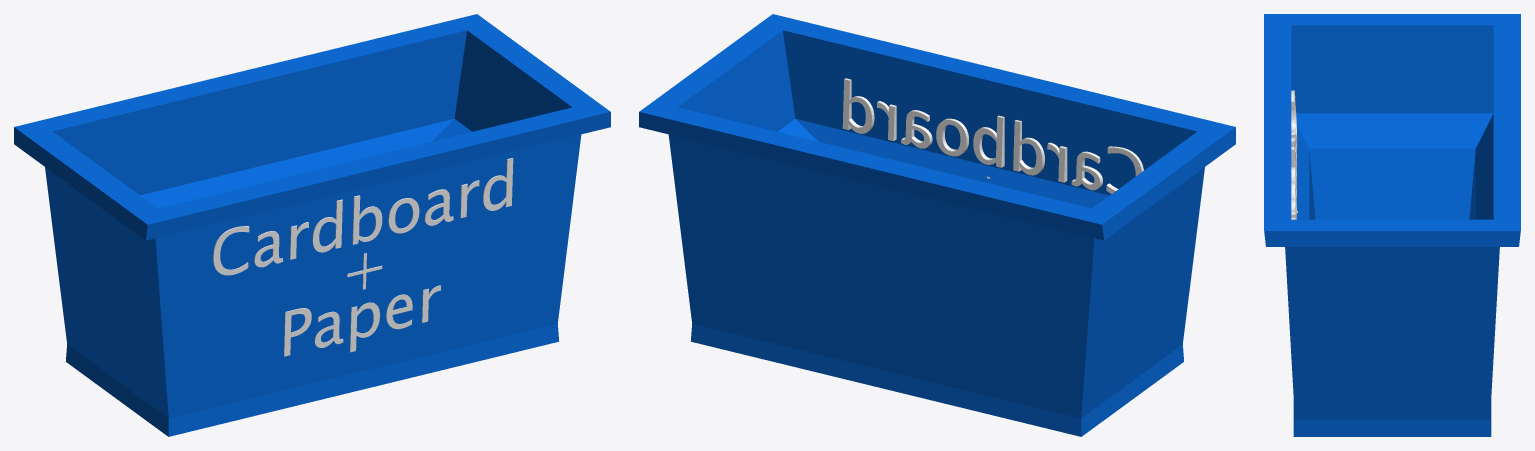
Rendered from Tip Container Cardboard and Paper.fbx.
The picture shows the model from 3 angles, left to right: view 1: azimuth 30°, elevation 25°; view 2: azimuth 150°, elevation 25°; view 3: azimuth 270°, elevation 25°; orthographic projection. The views are drawn at different scales.
Visible parts, largest first — view 1: pCube3, typeMesh7; view 2: pCube3, typeMesh7; view 3: pCube3, typeMesh7.
Part boxes in pixels (<box>): pCube3: <box>14,14,610,436</box>; typeMesh7: <box>213,158,513,356</box>; pCube3: <box>639,14,1235,436</box>; typeMesh7: <box>842,78,1143,193</box>; pCube3: <box>1264,14,1520,436</box>; typeMesh7: <box>1291,90,1297,219</box>.
Bounding box in the file's own units: 10.48 × 5 × 5.22.
